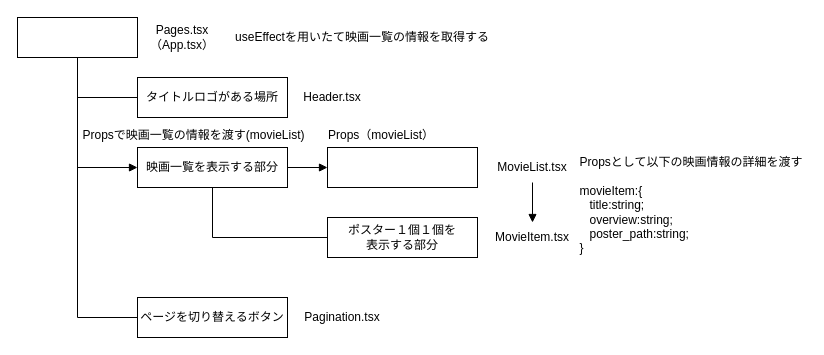
The diagram is 824 pixels wide and 355 high, and some of its shapes have lost their labels. The box of each missing label's shape, as (x1, y1, x2, y2) in pixels:
一覧を展開する部分 (取得した情報をmap関数で展開する場所): (326, 146, 478, 188)
映画を表示する画面: (16, 16, 138, 58)
